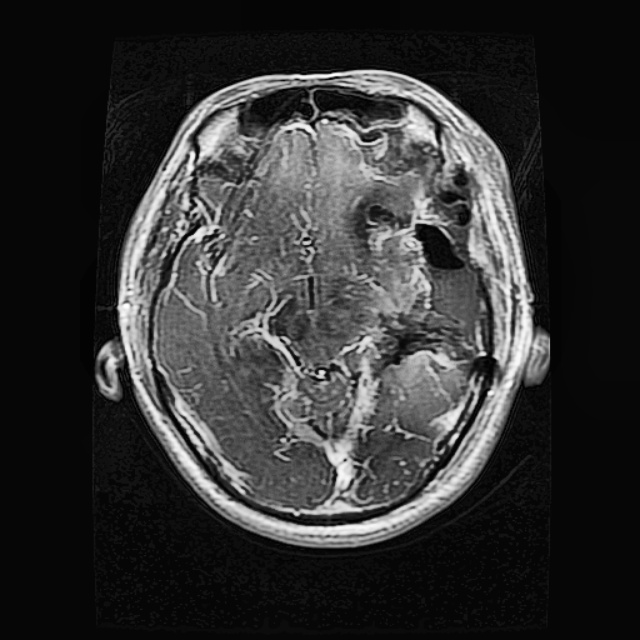Glioma: (347, 138, 493, 362)
